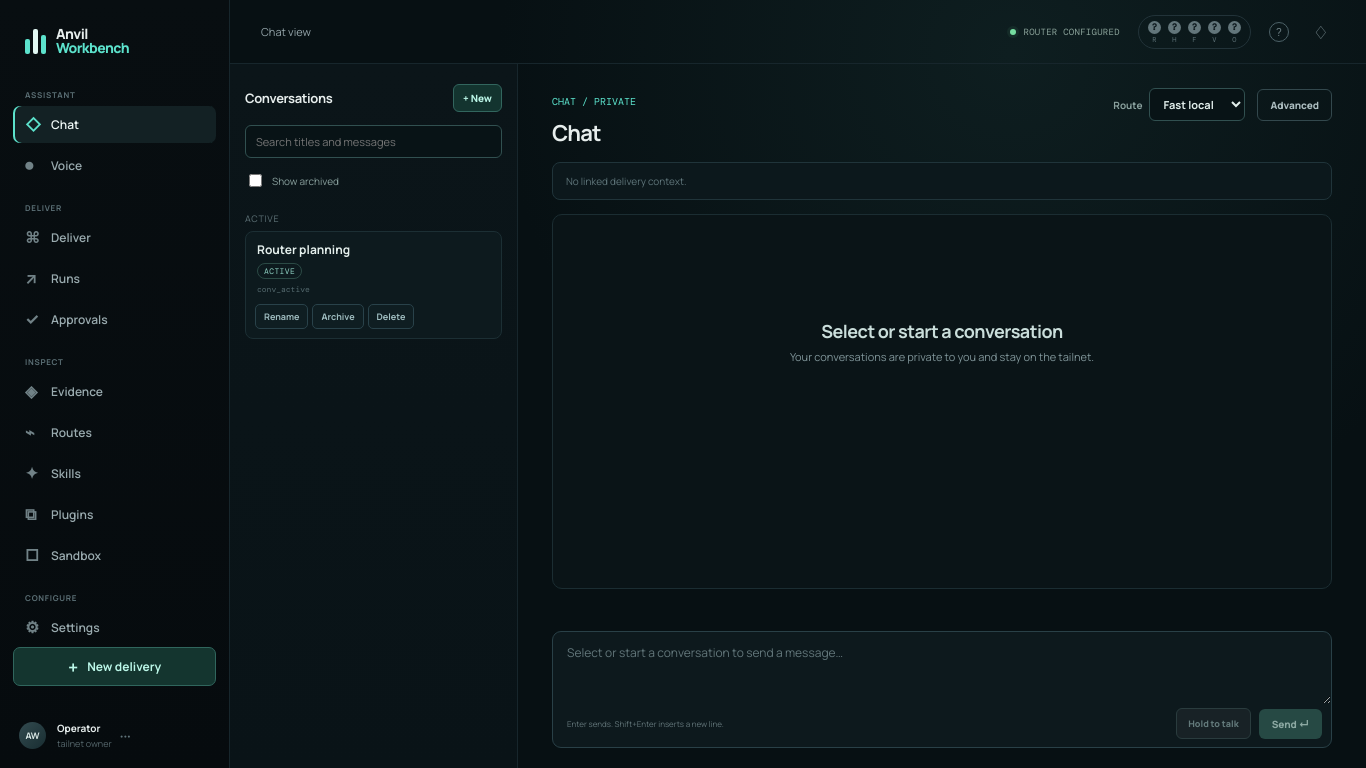
Criterion 1 — a new and a returning actor complete the wired chat loop › returning actor: a mid-stream cancel leaves a consistent transcript
Expected: the text "Router planning" is shown, left=257, top=241, right=350, bottom=258
Click the button with aria-label "Open Router planning" at (374, 268), box left=246, top=232, right=501, bottom=304
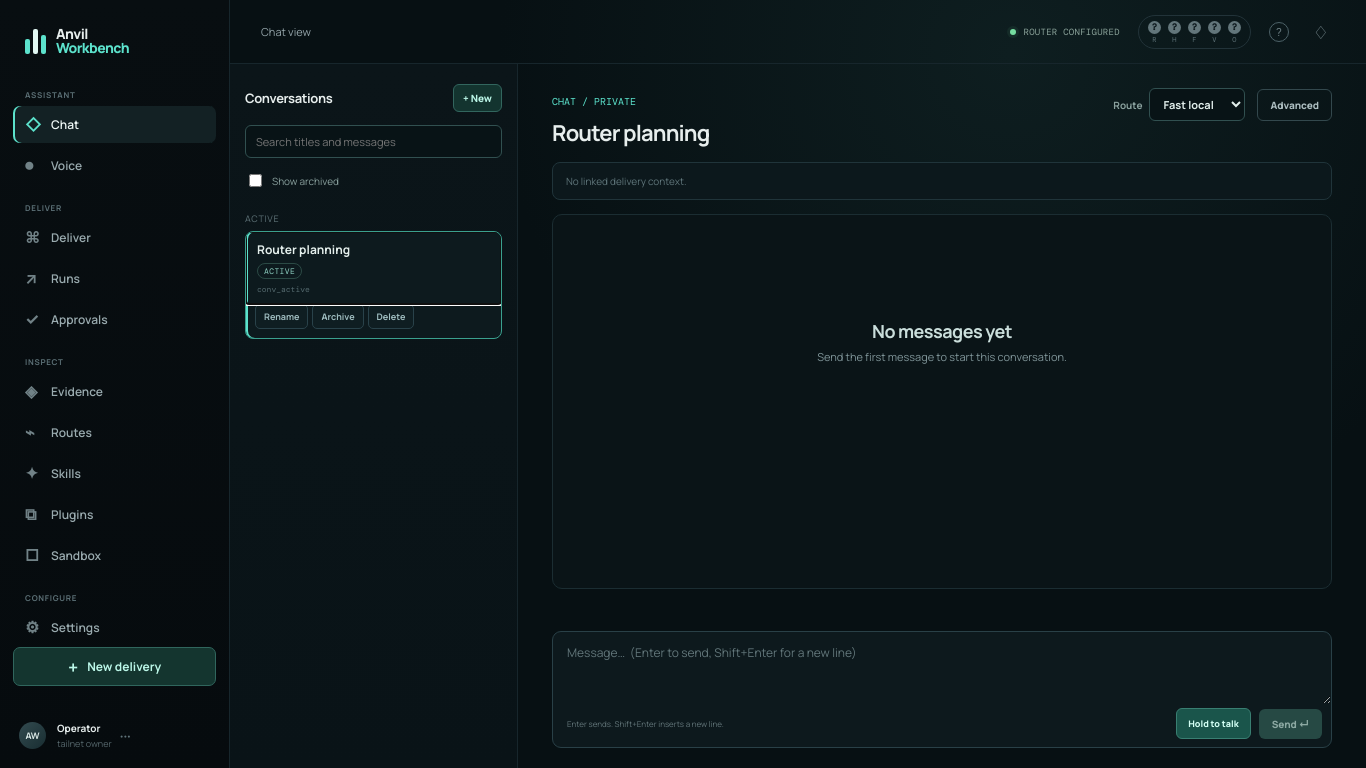
Expected: the element named "Empty conversation" is shown, left=817, top=318, right=1067, bottom=364
Type "summarize this" into the text box named "Message composer" at (942, 668), box left=553, top=632, right=1331, bottom=704
Then press Enter
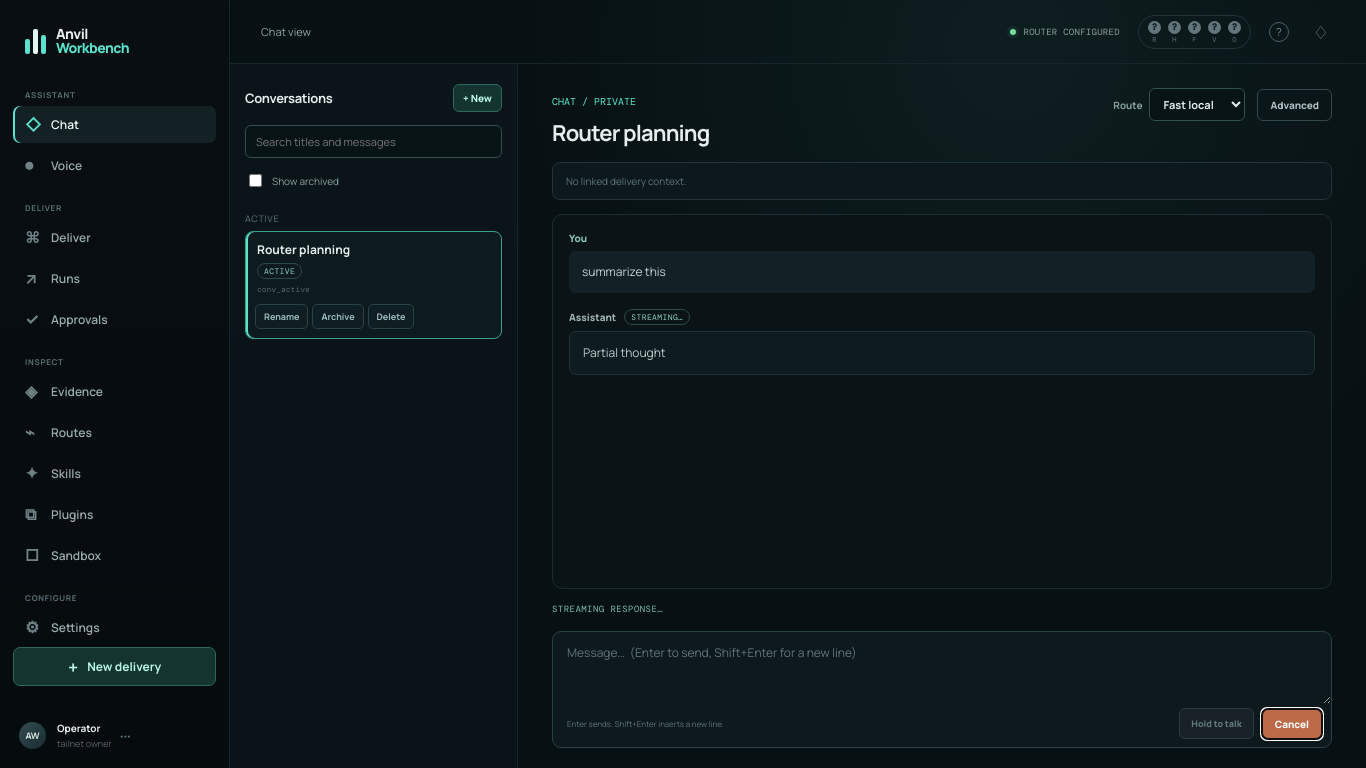
Expected: the text "Partial thought" is shown, left=569, top=331, right=1315, bottom=375
Click the button with aria-label "Cancel streaming response" at (1292, 724), box left=1262, top=708, right=1322, bottom=738
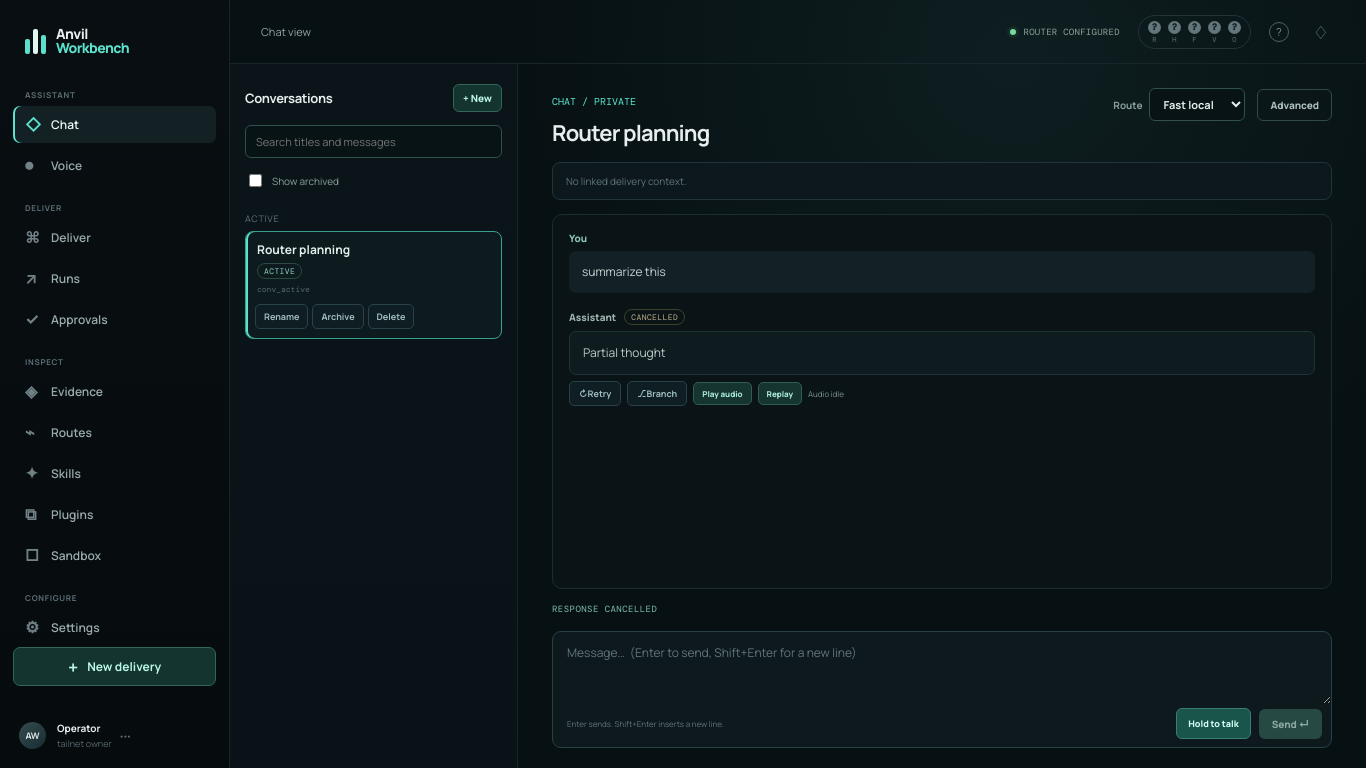
Expected: the text "Partial thought" is shown, left=569, top=331, right=1315, bottom=375
Expected: the text "Response cancelled" is shown, left=552, top=603, right=657, bottom=615
Expected: the text "cancelled" is shown, left=624, top=309, right=685, bottom=325
